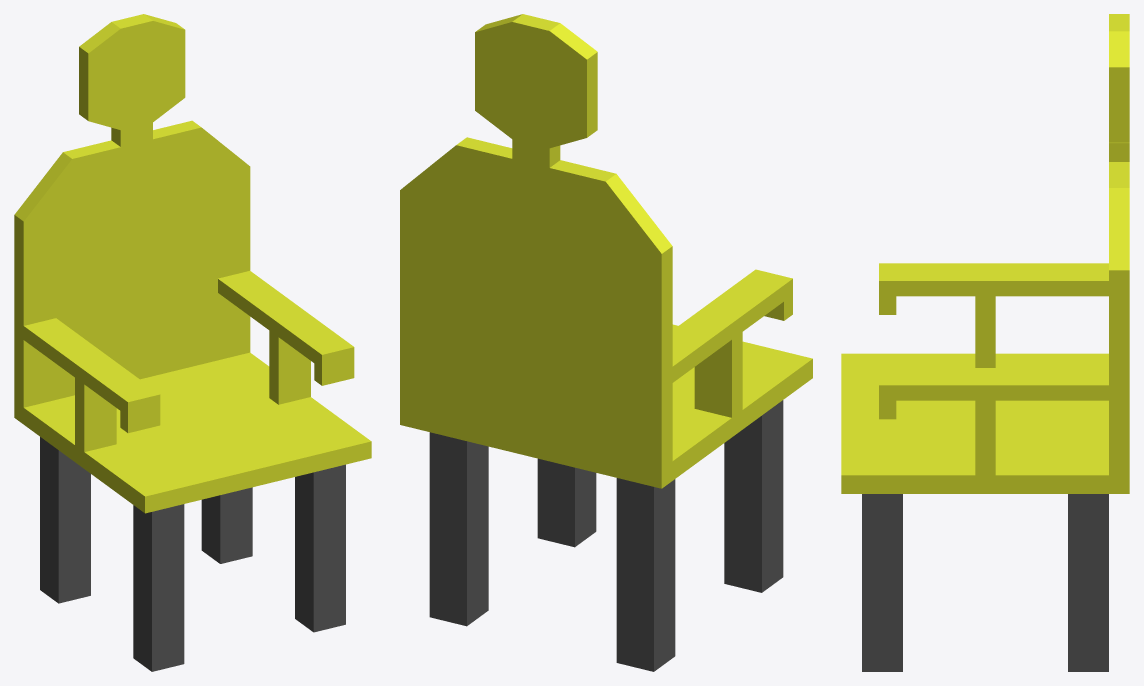
Rendered from chair.glb.
3 renders of one model, left to right at view 1: azimuth 30°, elevation 25°; view 2: azimuth 150°, elevation 25°; view 3: azimuth 270°, elevation 25°, orthographic. The views are drawn at different scales.
Visible parts, largest first — view 1: chair; view 2: chair; view 3: chair.
Part boxes in pixels (<box>): chair: <box>14,14,371,671</box>; chair: <box>400,14,812,671</box>; chair: <box>841,14,1129,671</box>.
Bounding box in the file's own units: 2.1 × 4.8 × 2.1.
